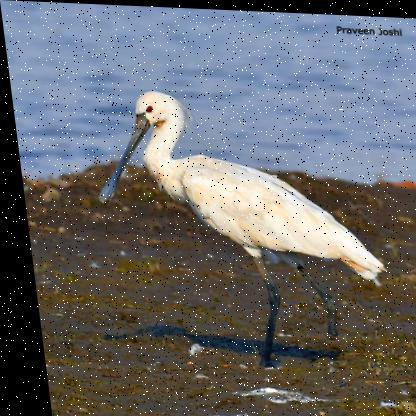Burung: (80, 88, 385, 371)
